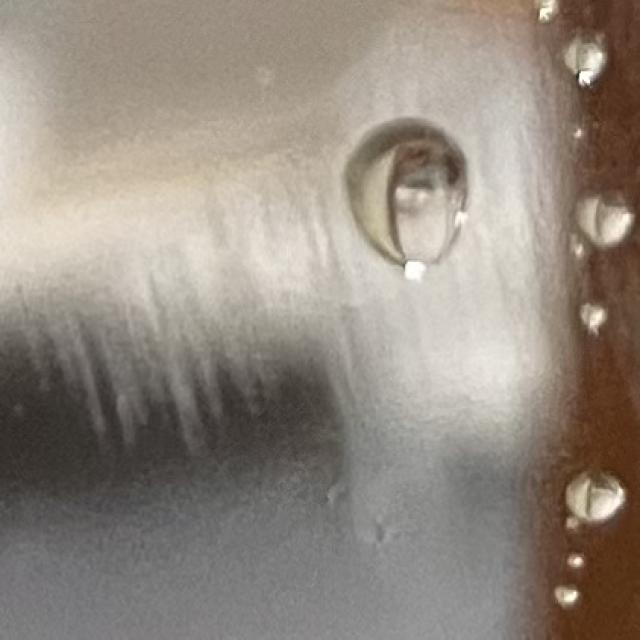raindrop: (349, 126, 449, 296), (545, 462, 636, 520), (566, 277, 624, 347), (570, 180, 632, 238), (564, 19, 612, 75), (560, 546, 598, 587), (522, 0, 563, 35), (547, 577, 580, 616)
